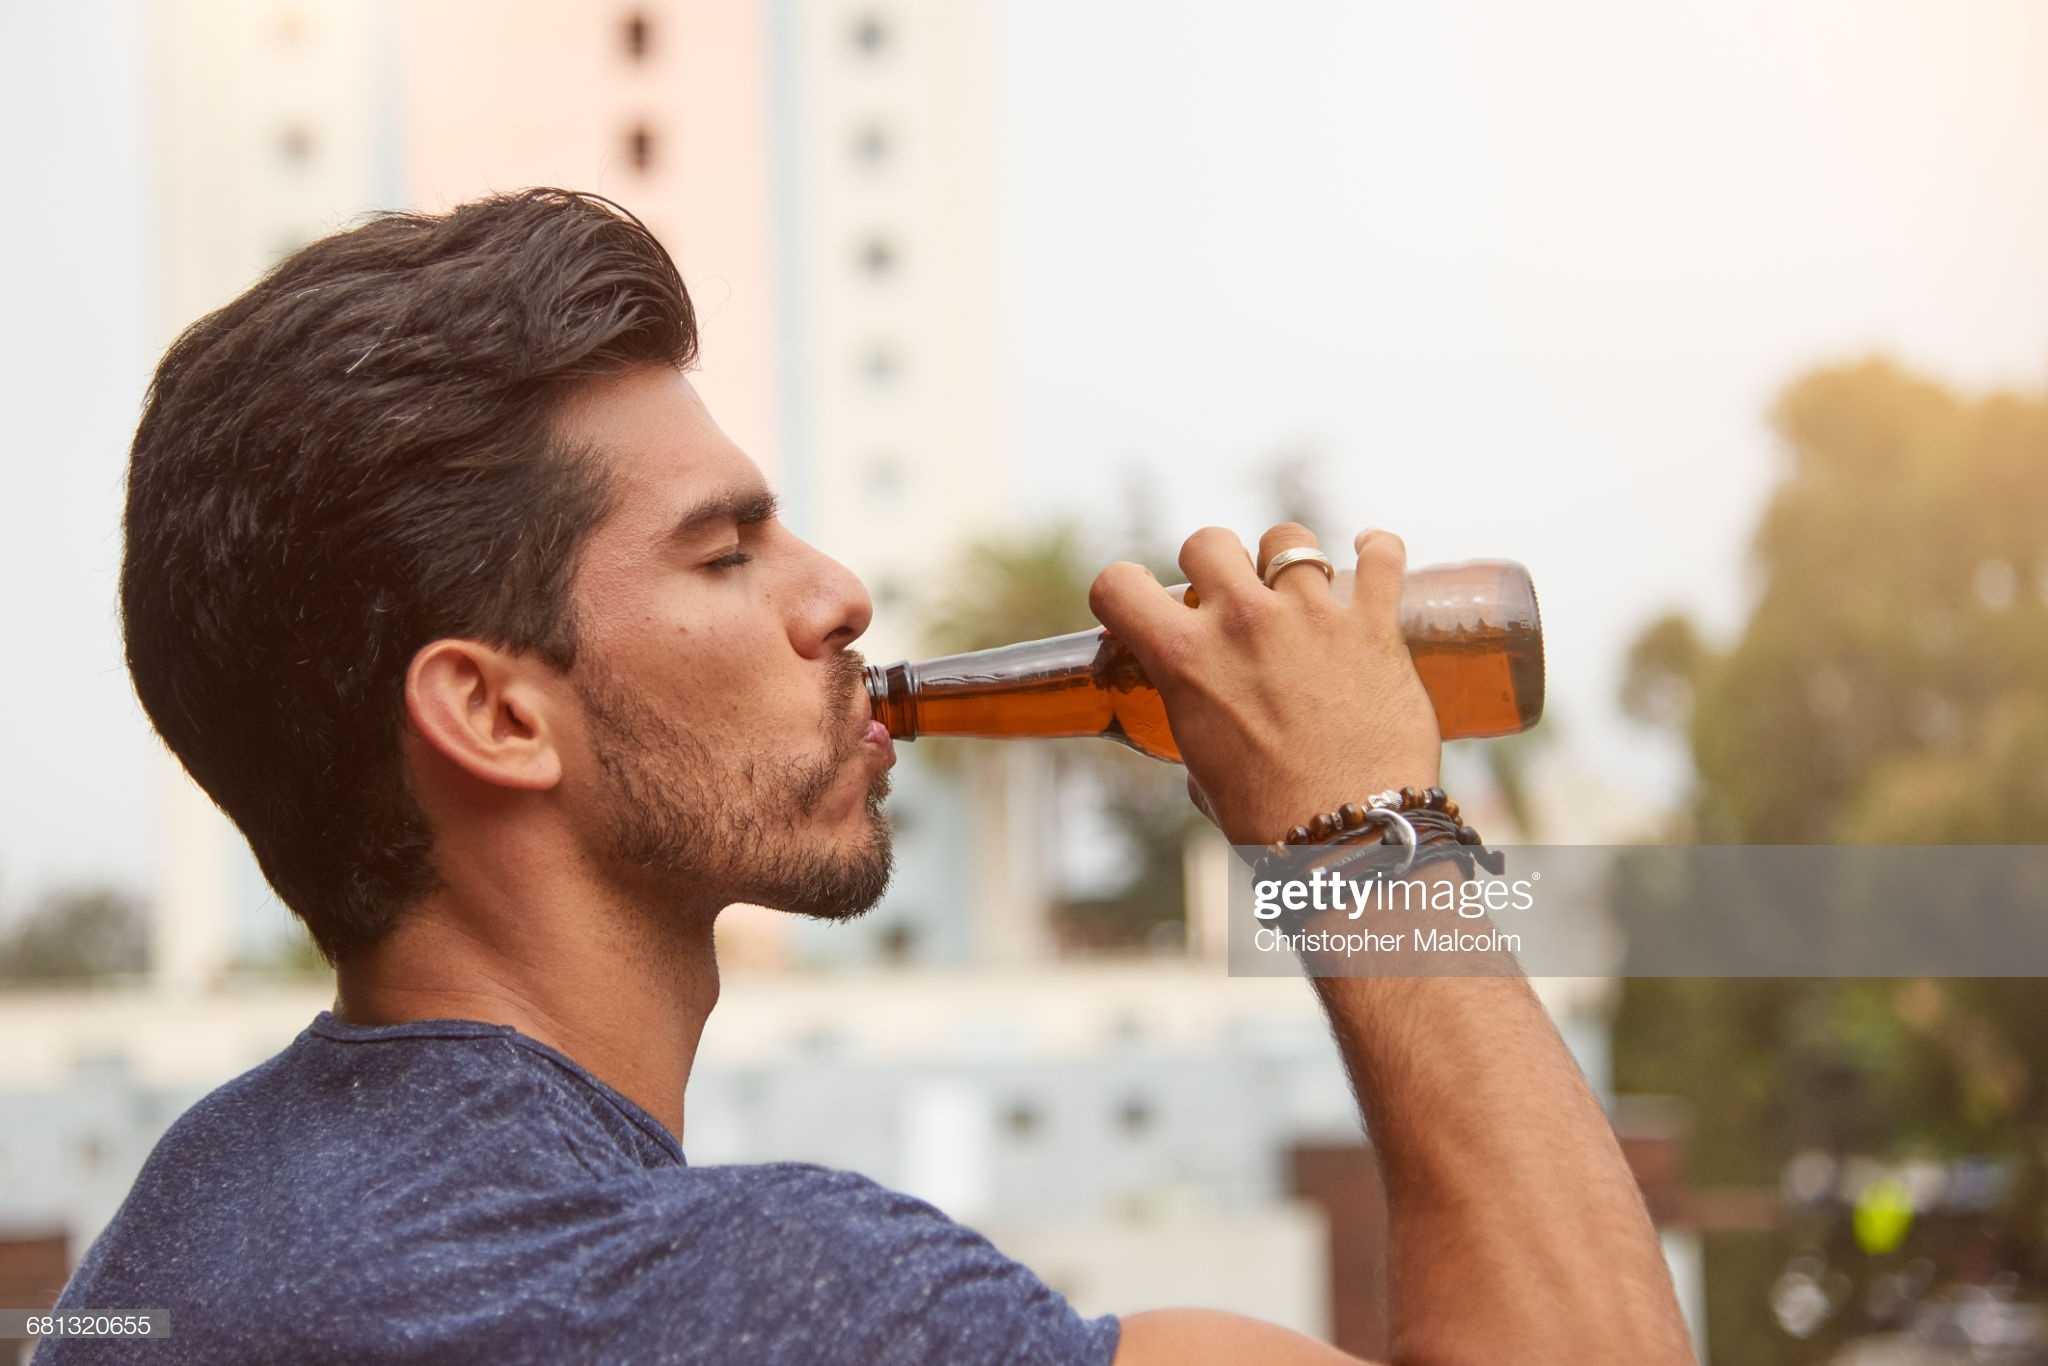beerBottle: (872, 558, 1557, 755)
